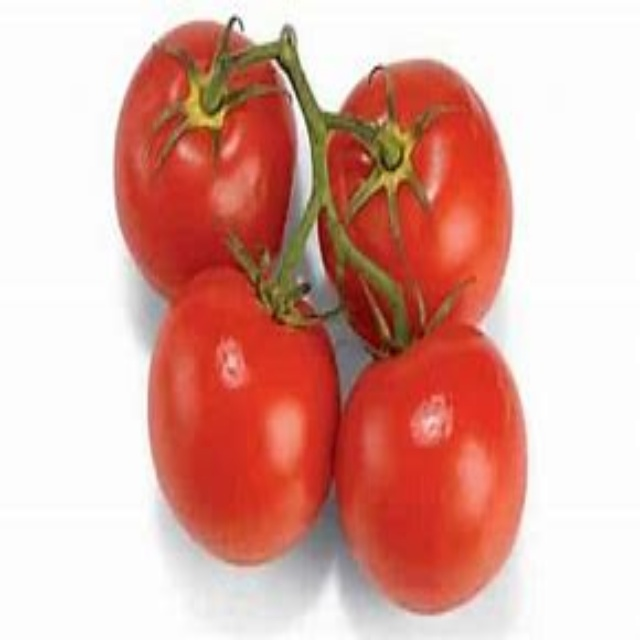tomato: (312, 319, 532, 617), (144, 269, 352, 564), (309, 59, 510, 338), (106, 21, 299, 297)
